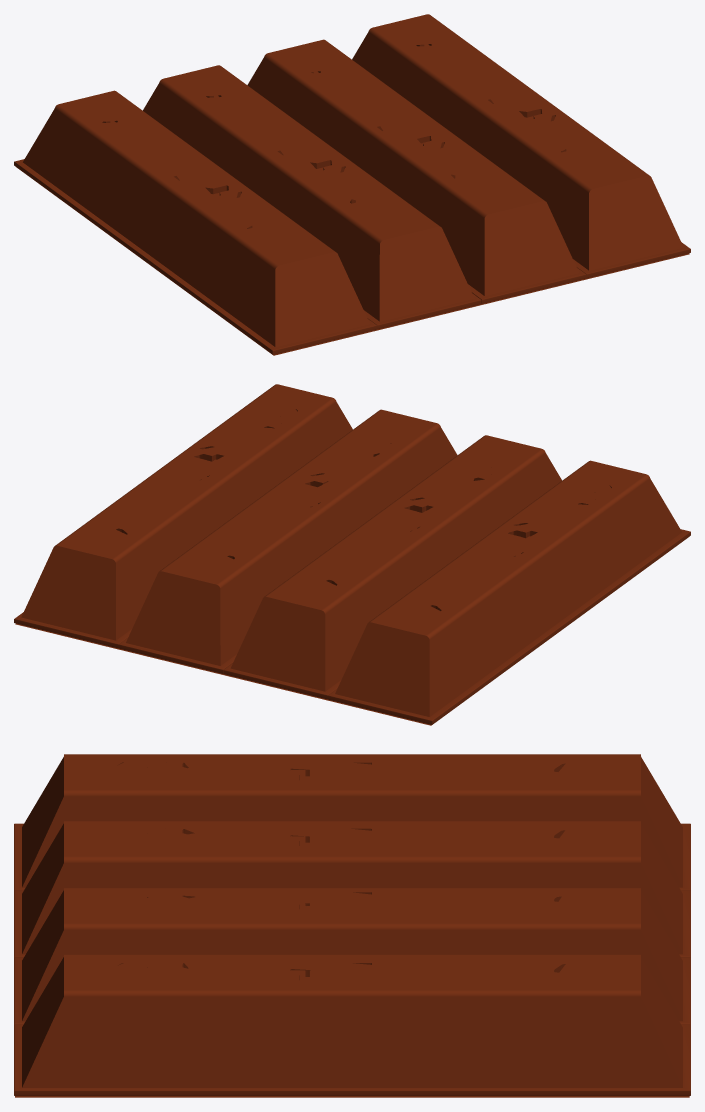
The model's file is denemedir_kitkat(1).fbx.
3 renders of one model, top to bottom at view 1: azimuth 30°, elevation 25°; view 2: azimuth 150°, elevation 25°; view 3: azimuth 270°, elevation 25°, orthographic. The views are drawn at different scales.
Parts seen in each view (by area): view 1: polySurface5, pPlane1; view 2: polySurface5, pPlane1; view 3: polySurface5, pPlane1.
Boxes of the visible parts, x1,y1,x2,y2 form: polySurface5: (14, 14, 690, 354); pPlane1: (22, 171, 689, 355); polySurface5: (14, 384, 690, 724); pPlane1: (15, 541, 682, 725); polySurface5: (14, 754, 690, 1095); pPlane1: (15, 1096, 689, 1097).
Size of the model in its own units: 169 by 27.19 by 181.
